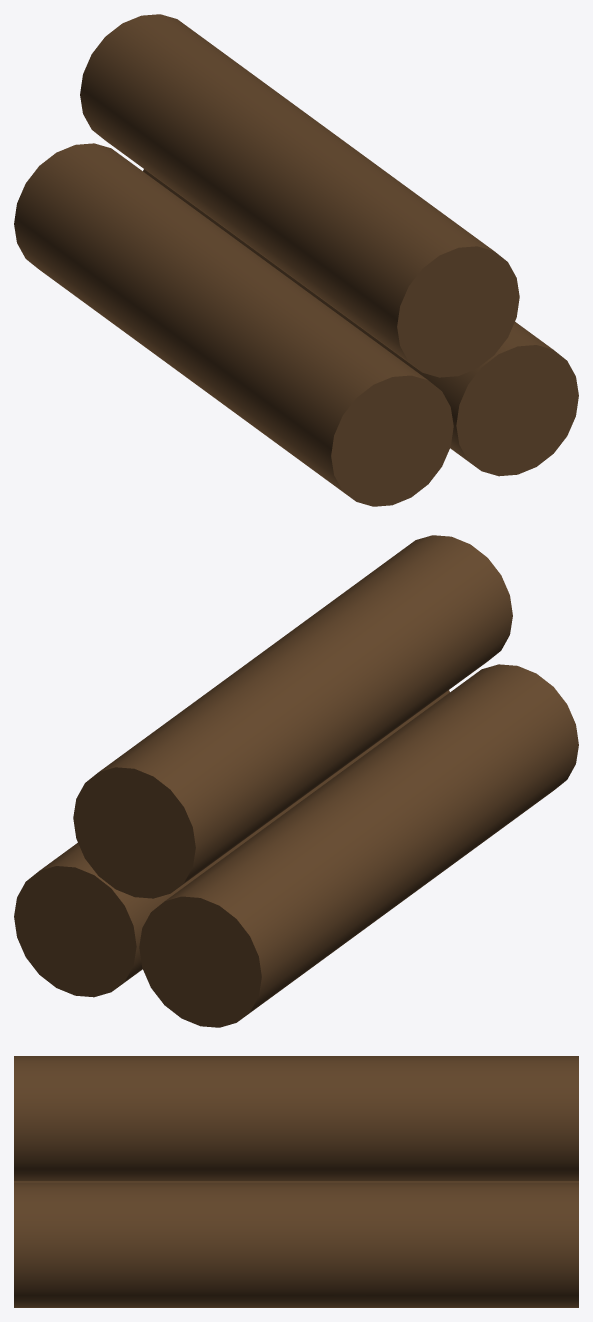
Rendered from mokuzai.fbx.
3 views of the same model, one above another, from view 1: azimuth 30°, elevation 25°; view 2: azimuth 150°, elevation 25°; view 3: azimuth 270°, elevation 25° (orthographic). The views are drawn at different scales.
Visible parts, largest first — view 1: pCylinder3, pCylinder2, pCylinder1; view 2: pCylinder3, pCylinder2, pCylinder1; view 3: pCylinder1, pCylinder3, pCylinder2.
Part boxes in pixels (x1,y1,x2,y2): pCylinder3: [80, 14, 519, 377]; pCylinder2: [14, 143, 453, 506]; pCylinder1: [143, 169, 578, 476]; pCylinder3: [73, 535, 512, 898]; pCylinder2: [139, 664, 578, 1027]; pCylinder1: [14, 690, 449, 997]; pCylinder1: [14, 1182, 578, 1307]; pCylinder3: [14, 1056, 578, 1181]; pCylinder2: [14, 1181, 578, 1182].
Bounding box in the file's own units: 0.7618 × 0.709 × 1.69.
